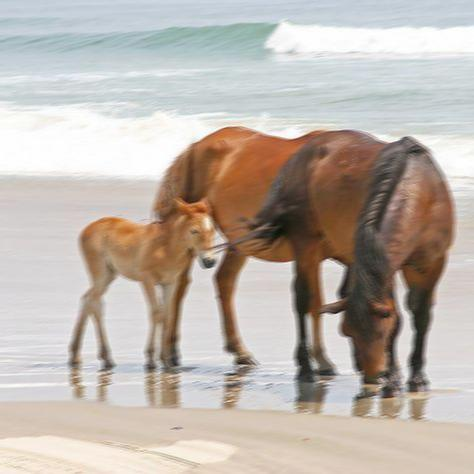horse: (230, 130, 456, 393), (150, 124, 386, 374), (68, 194, 216, 370)
